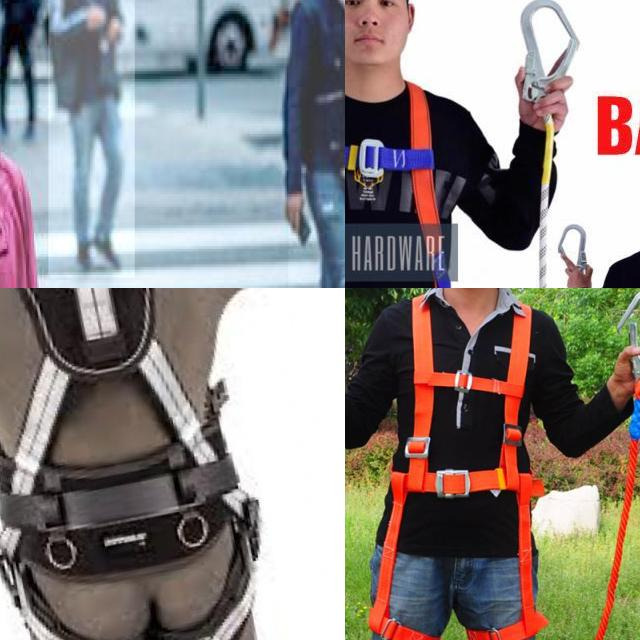Harness: (376, 289, 545, 640), (12, 288, 217, 495), (345, 83, 449, 288)
person: (48, 0, 136, 280), (288, 0, 345, 288)
shoes: (92, 224, 121, 271), (73, 234, 94, 272)
